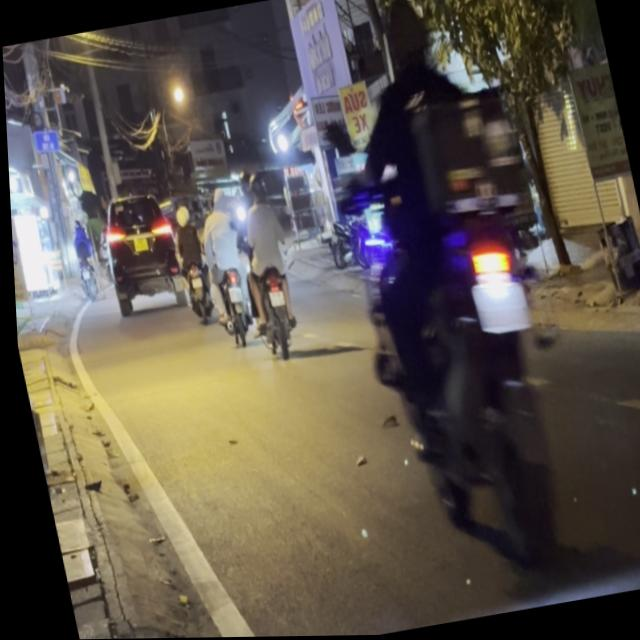helmet: (379, 0, 438, 76)
licenseplate: (294, 0, 603, 622)
nohelmet: (468, 278, 530, 338)
